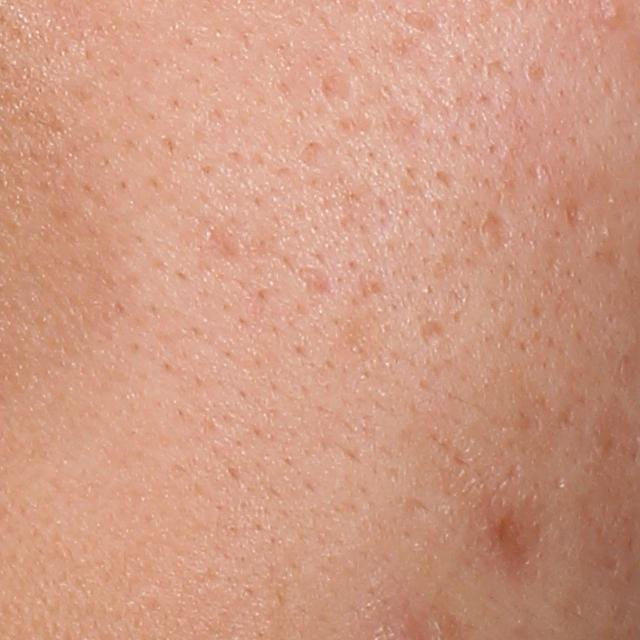atrophic_scar: (486, 478, 543, 606), (338, 193, 382, 242), (473, 210, 514, 257), (318, 68, 354, 116), (295, 266, 335, 302), (420, 318, 445, 350), (564, 199, 582, 235), (528, 59, 548, 83)
comedo: (603, 3, 628, 26)
